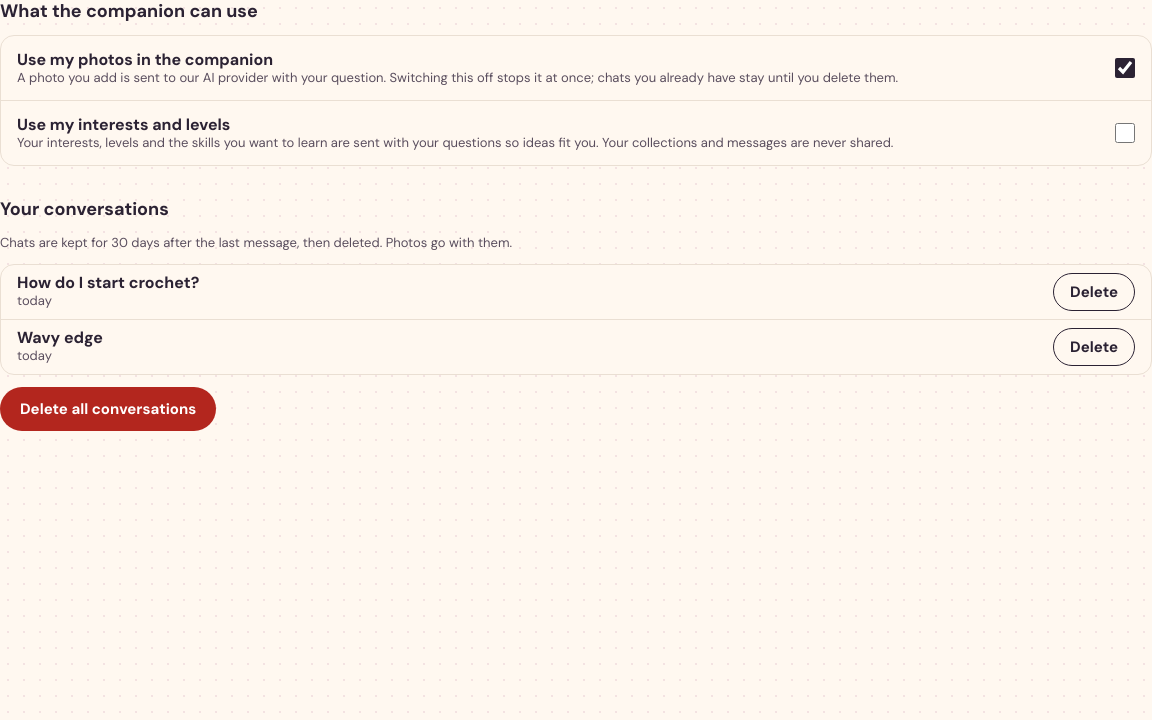
Test: AiPrivacyForm › deletes one chat after asking, and all chats with a stronger warning
Click the button with aria-label "Delete chat: Wavy edge" at (1094, 347), box [1053,328,1135,366]
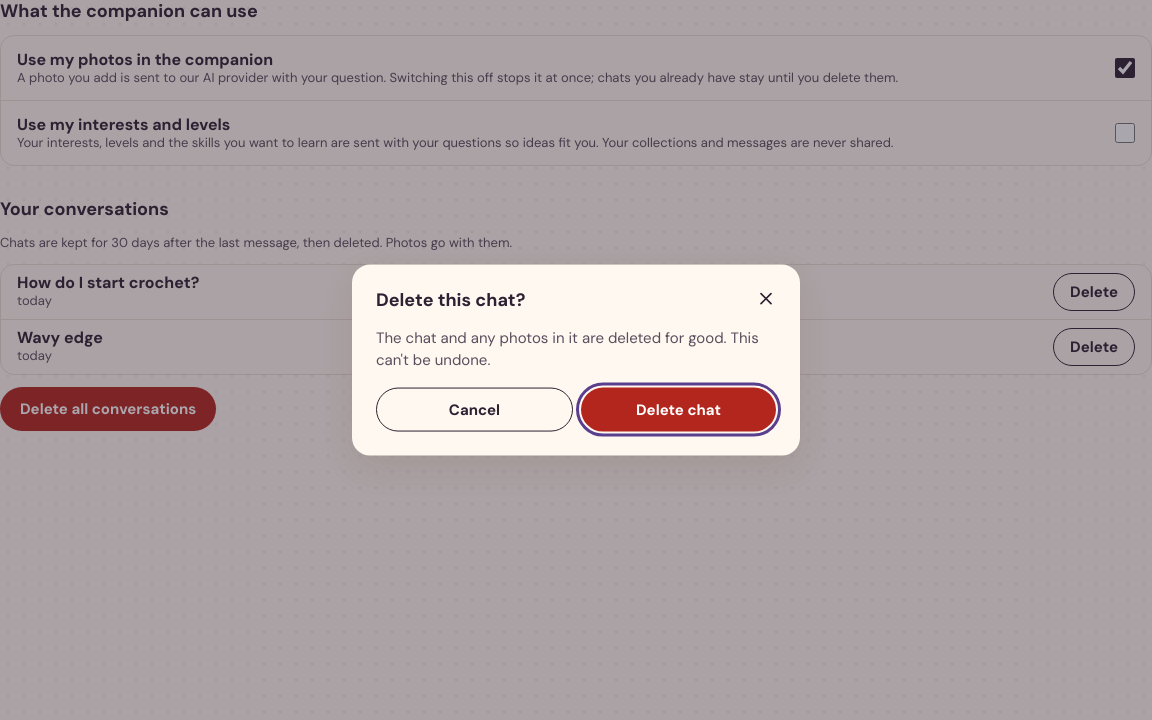
Result: the dialog shows "Delete this chat?" at [376,288,525,312]
Click the button "Delete chat" at (678, 409), box [581,387,776,431]
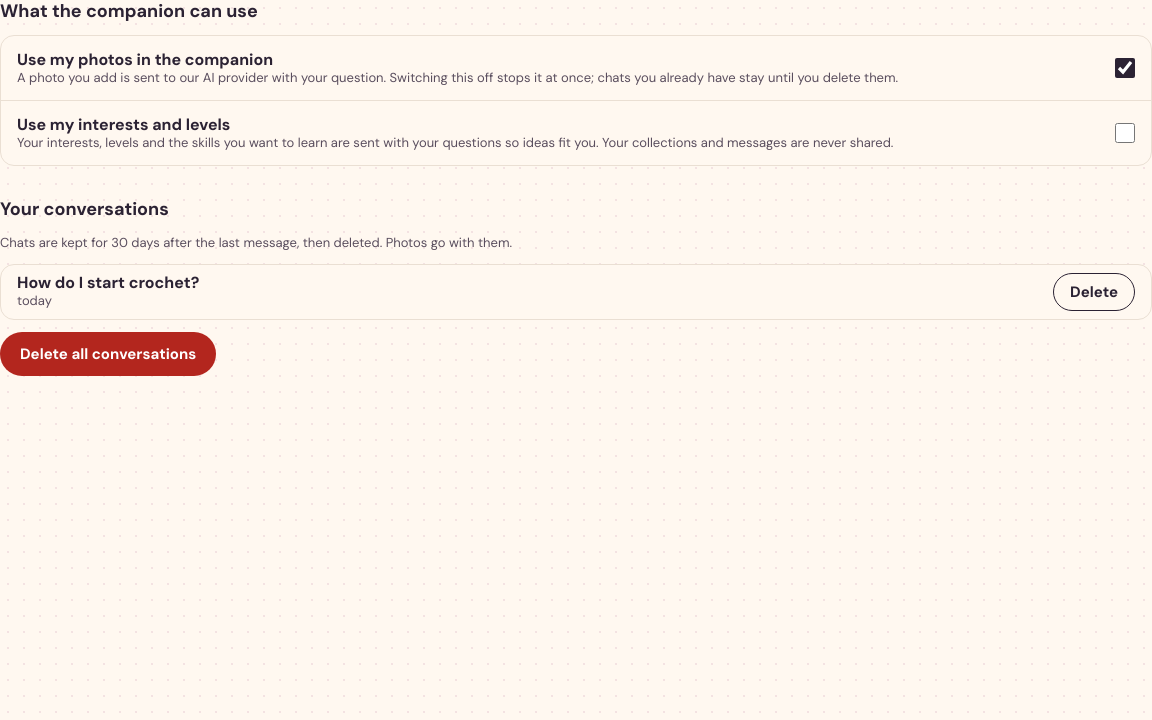
Expected: the text "How do I start crochet?" is shown, [17,272,199,293]
Result: the text "Wavy edge" is gone
Click the button "Delete all conversations" at (108, 354), box [0,332,216,376]
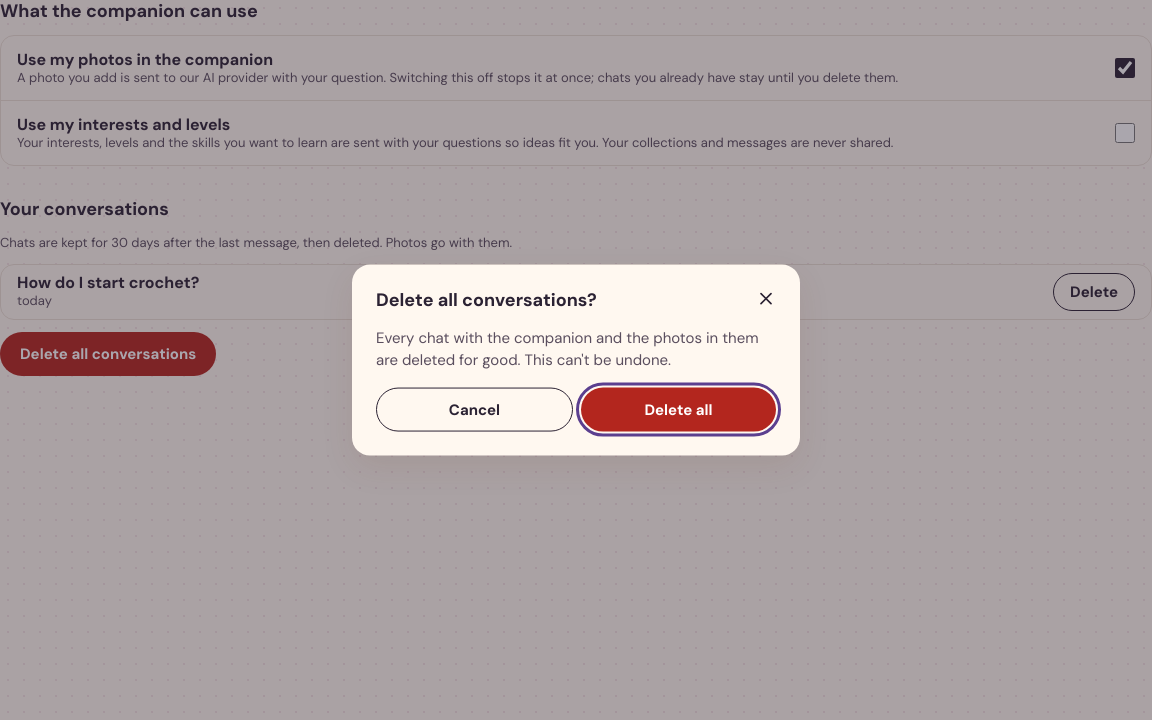
Result: the dialog shows "Every chat with the companion and the photos in them" at [376,328,759,370]
Click the button "Delete all" at (678, 409), box [581,387,776,431]
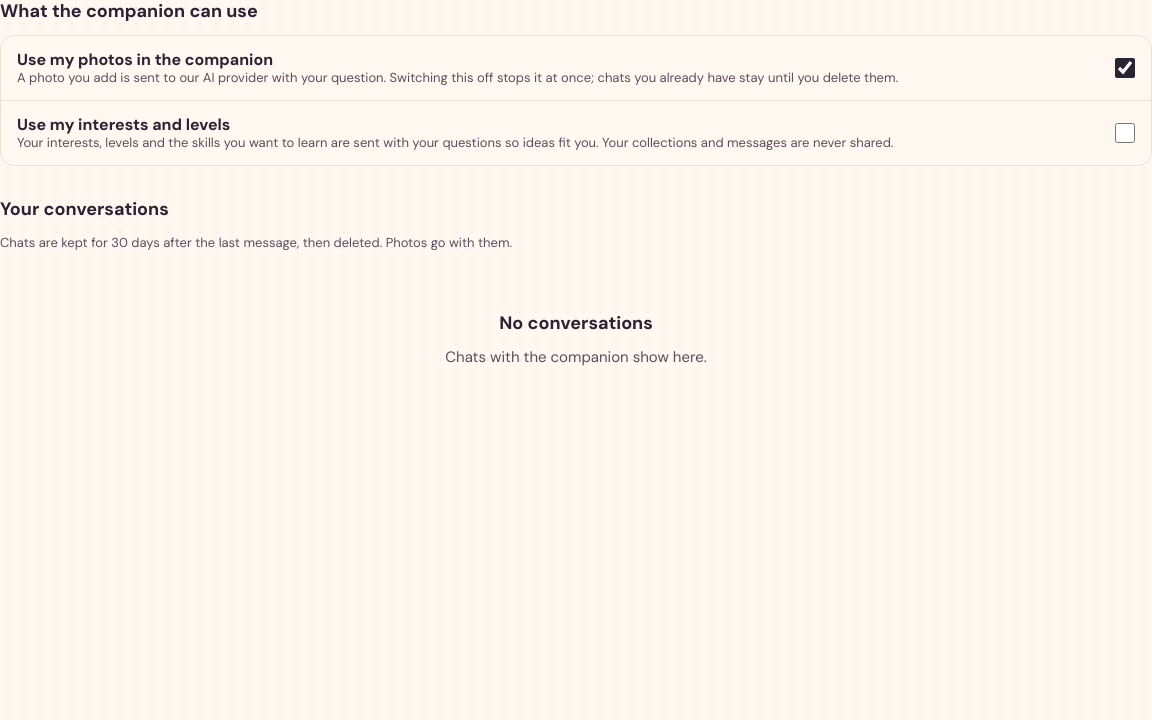
Result: the text "No conversations" is shown at [499,312,653,335]
